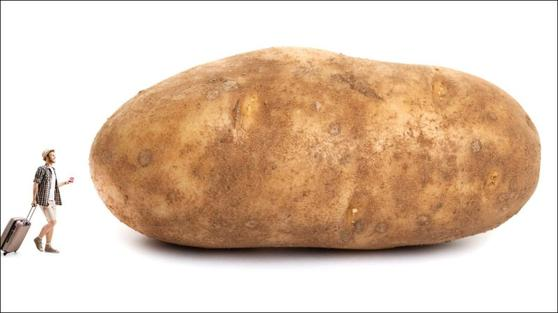potato: (91, 47, 539, 251)
